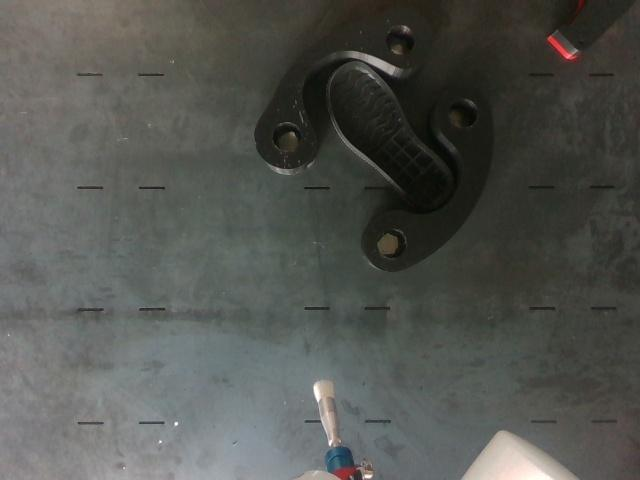shoes: (330, 62, 454, 208)
